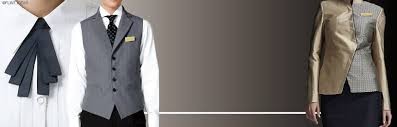F_shirt: (62, 7, 162, 126)
F_tie: (102, 14, 121, 42)
